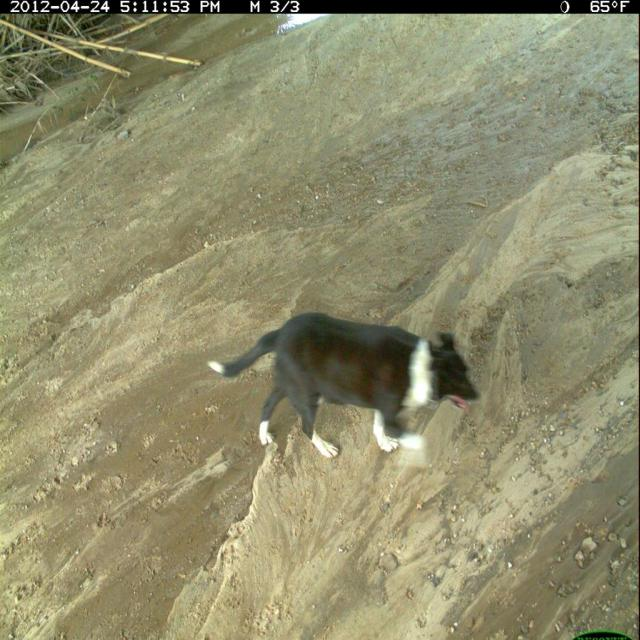dog: (207, 307, 482, 463)
